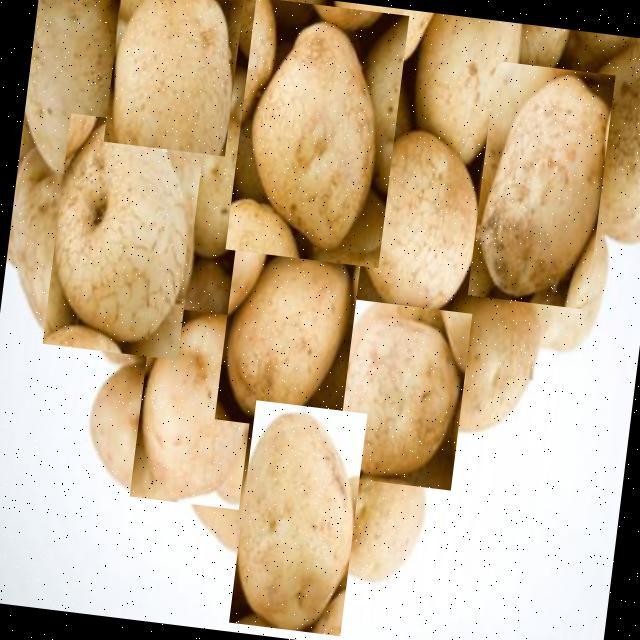Potato: (223, 0, 408, 266), (42, 112, 205, 360), (466, 59, 614, 308), (228, 398, 366, 634), (214, 223, 362, 433), (324, 297, 471, 489), (128, 304, 261, 508), (102, 0, 244, 155)
